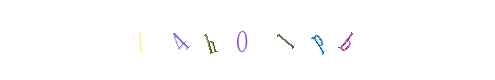0: (207, 0, 287, 80)
4: (181, 0, 261, 80)
7: (99, 0, 179, 80)
B: (306, 0, 386, 80)
H: (201, 0, 281, 80)
L: (218, 0, 298, 80)
P: (278, 0, 358, 80)
